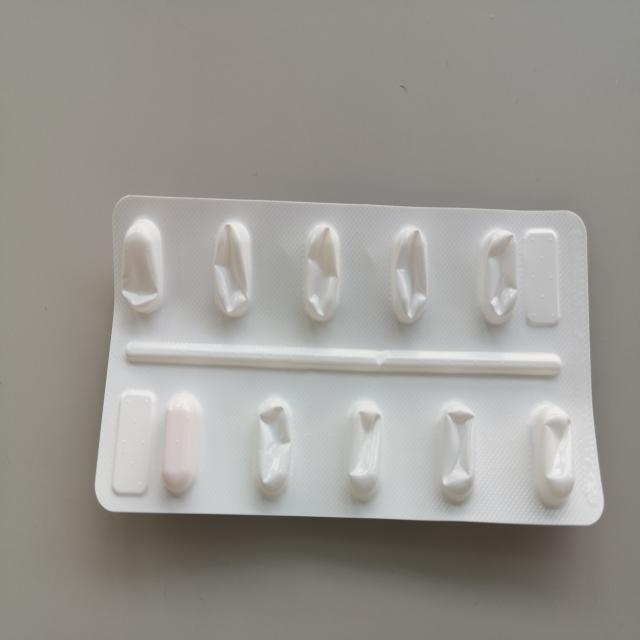Empty: (427, 397, 484, 508), (521, 401, 576, 512), (207, 211, 260, 326), (295, 217, 349, 327), (116, 214, 168, 325), (382, 217, 433, 330), (472, 222, 522, 336), (248, 394, 296, 504), (339, 396, 388, 503)
Pill: (160, 389, 203, 499)
